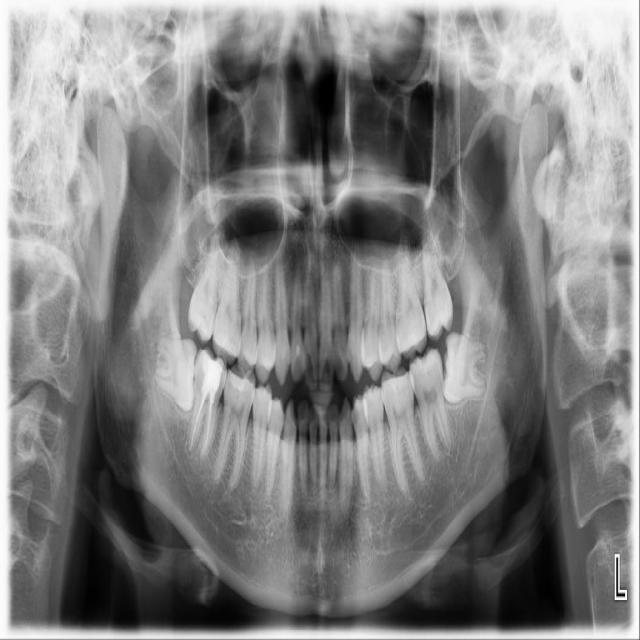Filling: (194, 347, 227, 399)
Periapical lesion: (437, 434, 463, 465), (227, 481, 241, 496), (185, 441, 192, 458)
Root Canal Treatment: (192, 398, 206, 448), (203, 393, 214, 452)
impacted tooth: (145, 337, 197, 407), (442, 332, 491, 403)
